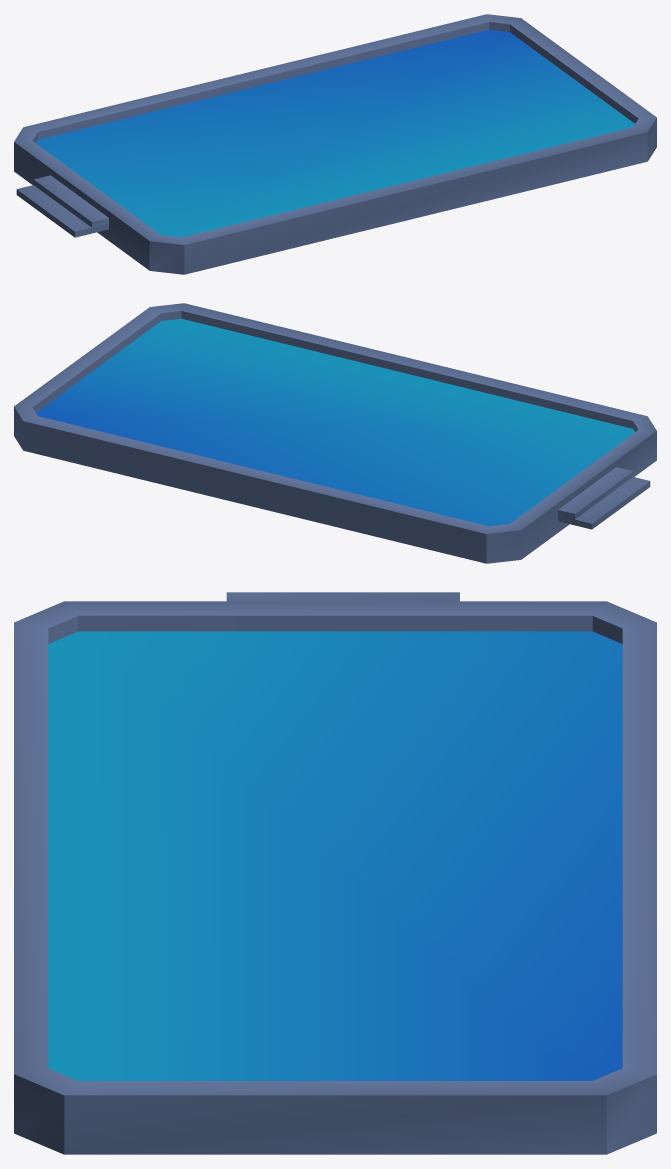
The model's file is BigPool.FBX.
3 renders of one model, top to bottom at view 1: azimuth 30°, elevation 25°; view 2: azimuth 150°, elevation 25°; view 3: azimuth 270°, elevation 25°, orthographic. The views are drawn at different scales.
Visible parts, largest first — view 1: big_pool; view 2: big_pool; view 3: big_pool.
Part boxes in pixels (box(x1,y1,x2,y2)): big_pool: box(14, 14, 656, 274); big_pool: box(14, 303, 656, 563); big_pool: box(14, 592, 656, 1154).
Size of the model in its own units: 70.21 by 3.68 by 36.18.
